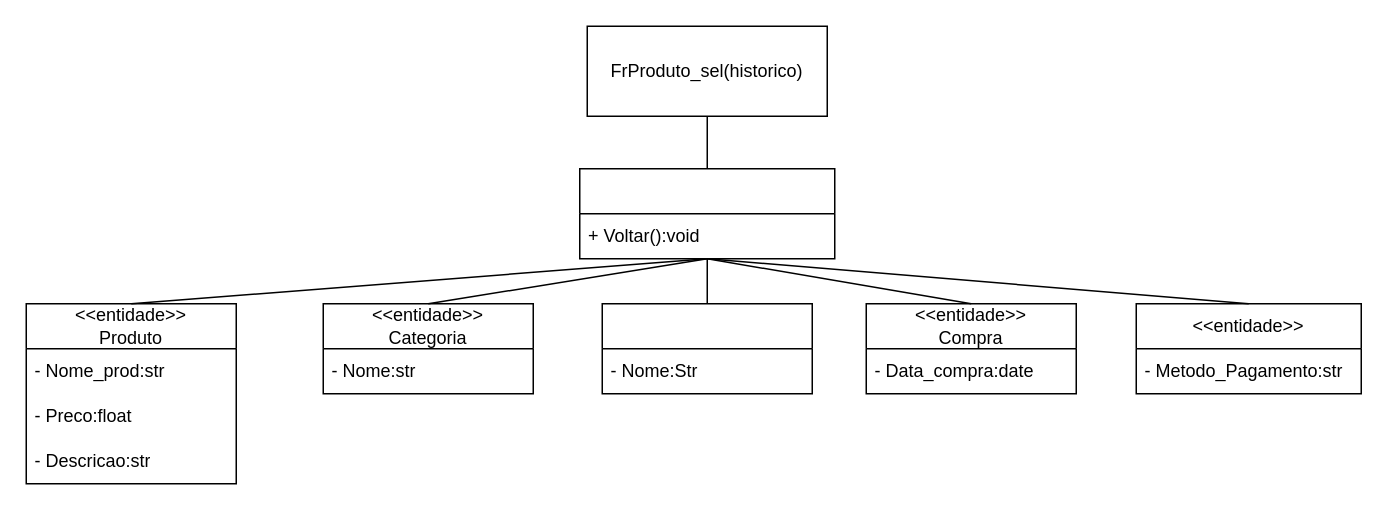
Some shapes in this 1388 by 510 pixel diagram are drawn without their labels. Each missing label, with the box of its shape:
<<entidade>> Comerciante: (601, 302, 812, 394)
CtrlProduto_sel(historico): (578, 167, 835, 259)
